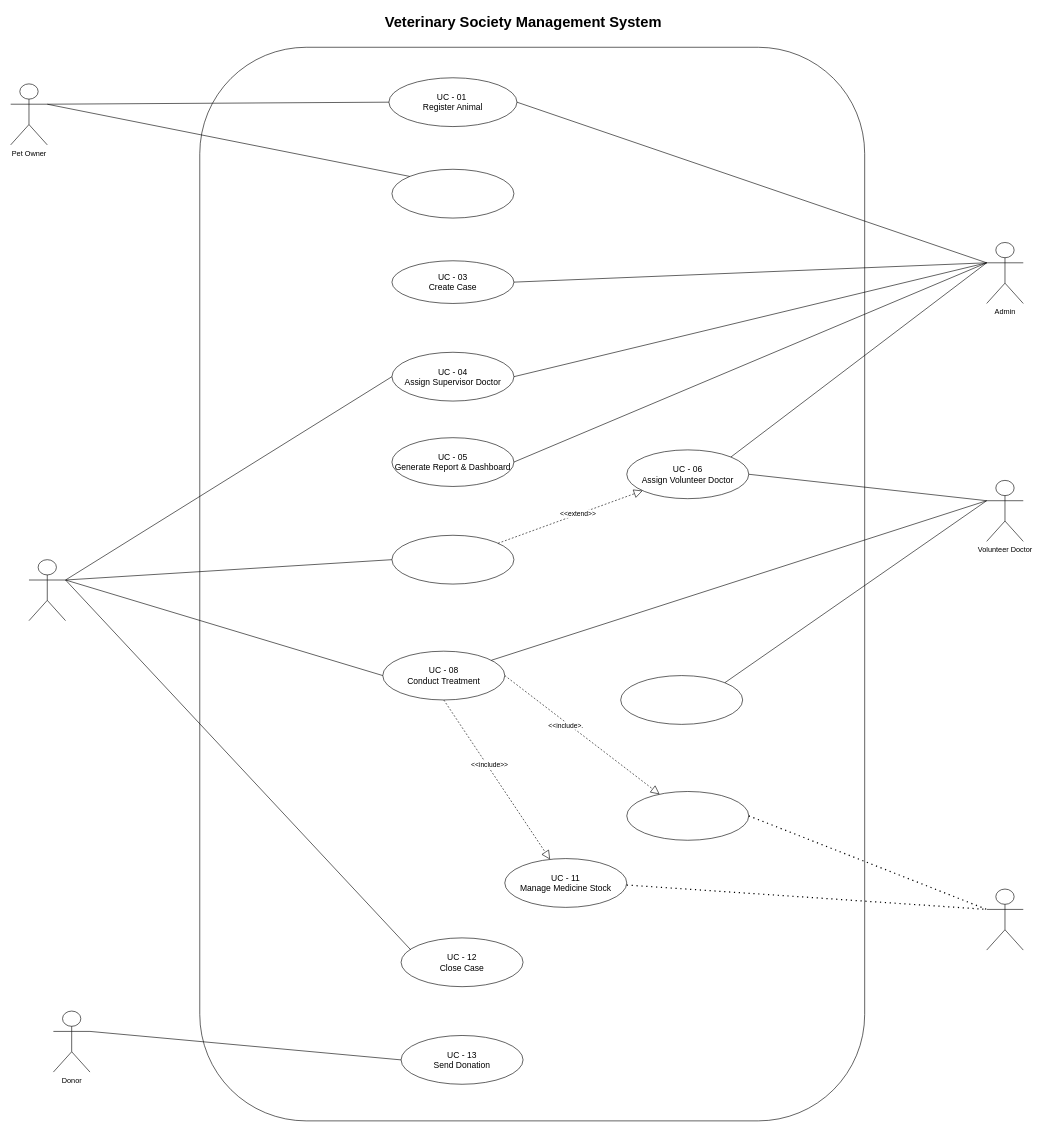
This 1042x1132 diagram has some shape labels left out. Here are the shapes that lost their labels. From the top down, the centre of each, then its label:
At (x=452, y=193): "UC - 02 Book Appointment".
At (x=452, y=559): "UC - 07 Review & Approve Progress".
At (x=47, y=590): "Supervisor Doctor".
At (x=681, y=699): "UC - 09 Update Case & Handover Notes".
At (x=687, y=815): "UC - 10 Send Notification".
At (x=1004, y=919): "System".
